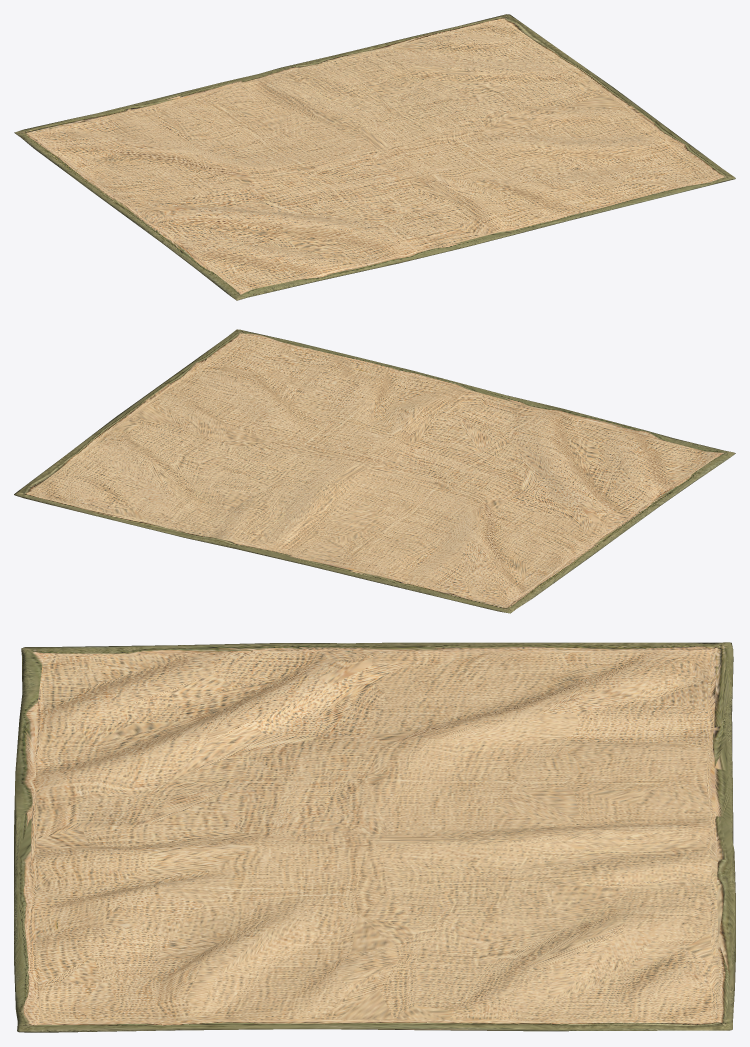
The model's file is mat-pip-v1.glb.
3 views of the same model, one above another, from view 1: azimuth 30°, elevation 25°; view 2: azimuth 150°, elevation 25°; view 3: azimuth 270°, elevation 25° (orthographic). The views are drawn at different scales.
Visible parts, largest first — view 1: tripo_node_36f22074-dbb4-4a1d-b3dc-c9806141963d; view 2: tripo_node_36f22074-dbb4-4a1d-b3dc-c9806141963d; view 3: tripo_node_36f22074-dbb4-4a1d-b3dc-c9806141963d.
Boxes of the visible parts, bbox=[...] form: tripo_node_36f22074-dbb4-4a1d-b3dc-c9806141963d: bbox=[14, 14, 735, 300]; tripo_node_36f22074-dbb4-4a1d-b3dc-c9806141963d: bbox=[14, 329, 735, 613]; tripo_node_36f22074-dbb4-4a1d-b3dc-c9806141963d: bbox=[14, 642, 735, 1032].
Size of the model in its own units: 0.9495 by 0.0183 by 0.7494.
1 material, 1 textured.
